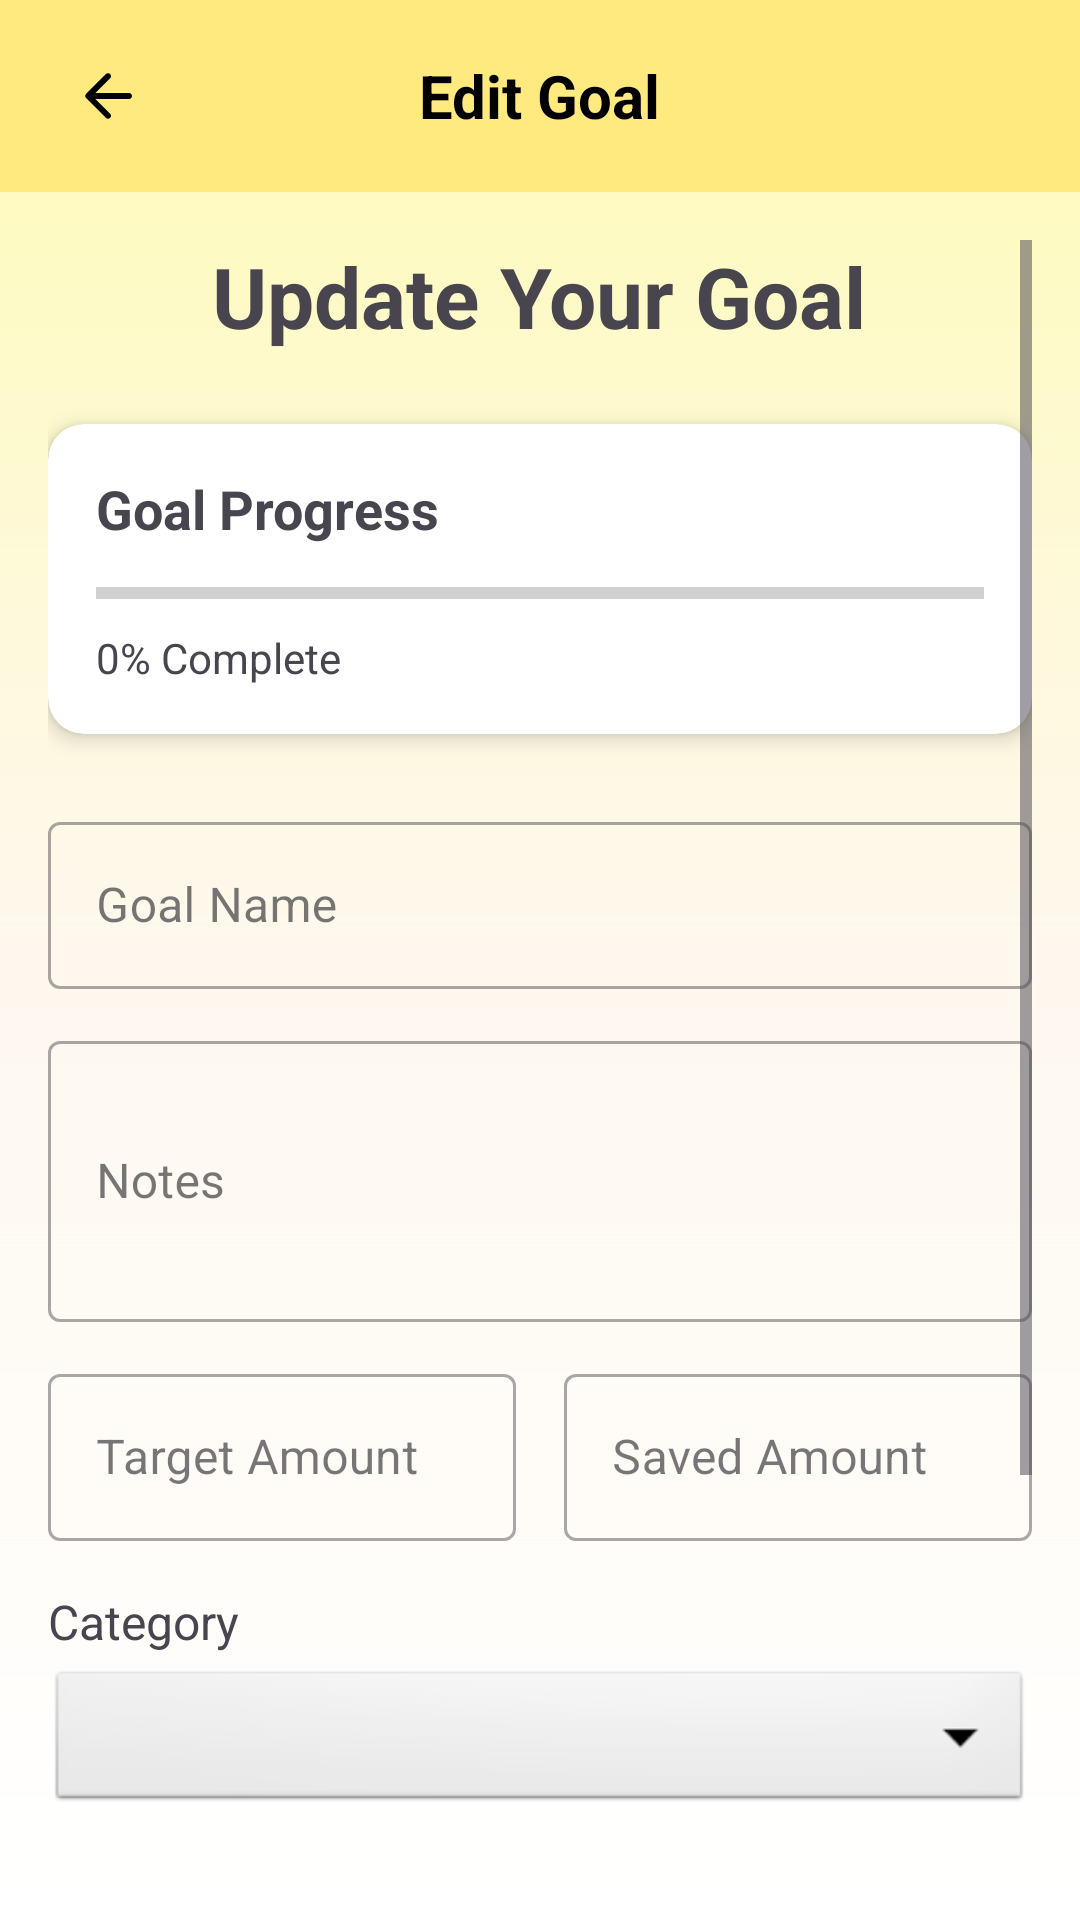

Icon click points for this 1080w x 1920h phone screenshot, format (x,y):
Back button: (108,96)
